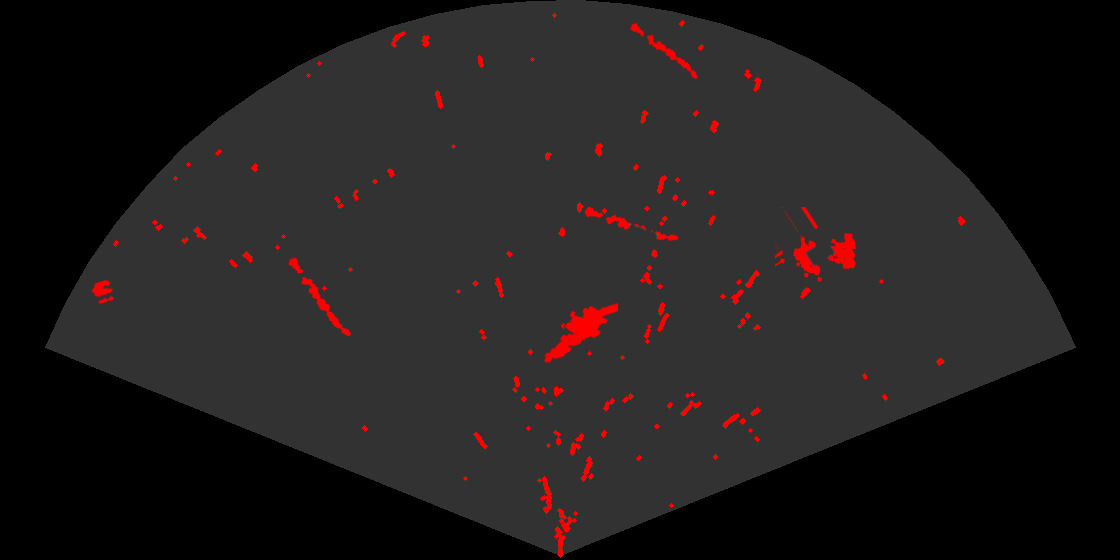ball: (90, 278, 116, 306)
cage: (775, 207, 858, 283)
chain: (287, 256, 353, 338), (624, 18, 700, 81), (583, 205, 680, 243)
frogman: (542, 301, 618, 365)
